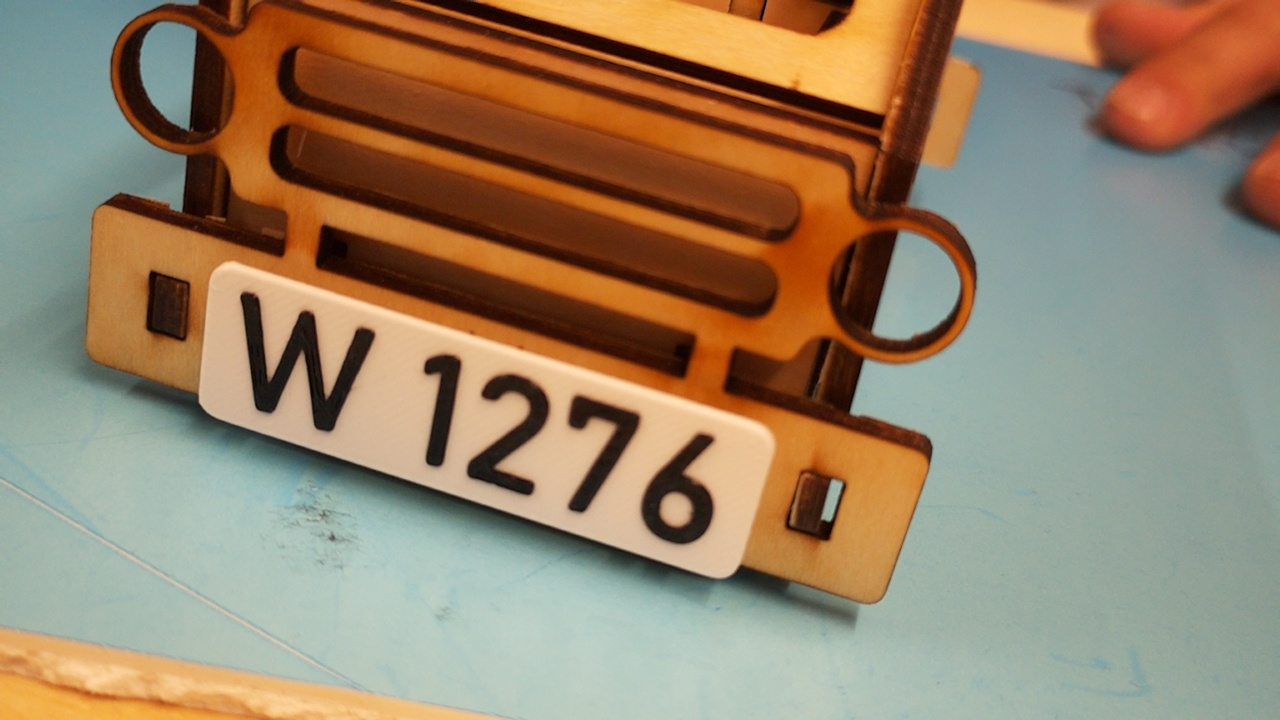license_plate: (194, 258, 778, 582)
